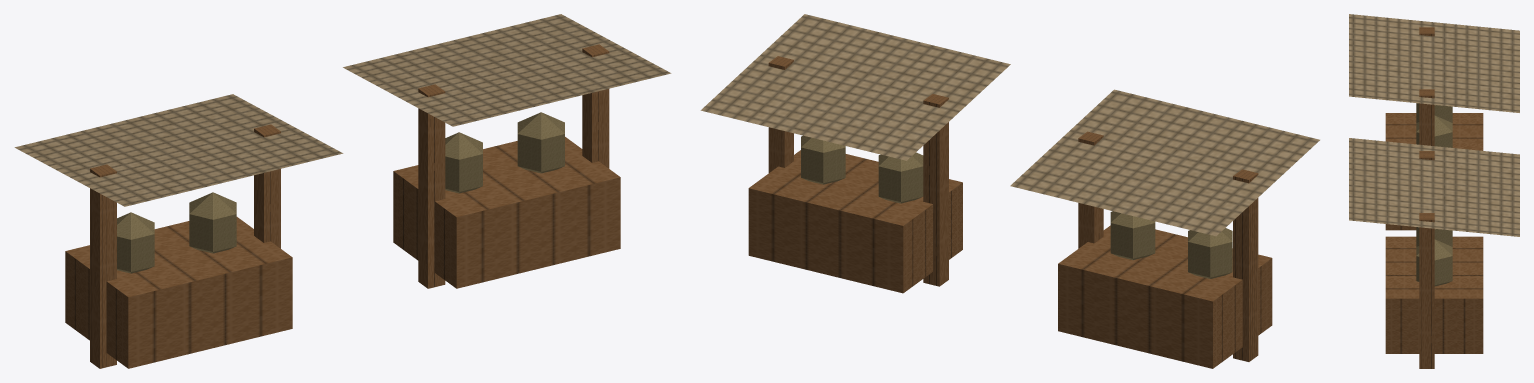
The model's file is domestic-MARKET-1-lod0.glb.
The picture shows the model from 3 angles, left to right: view 1: azimuth 30°, elevation 25°; view 2: azimuth 150°, elevation 25°; view 3: azimuth 270°, elevation 25°; orthographic projection. The views are drawn at different scales.
Size of the model in its own units: 0.8 by 0.28 by 0.28.
Materials: 1 (1 with a texture image).
